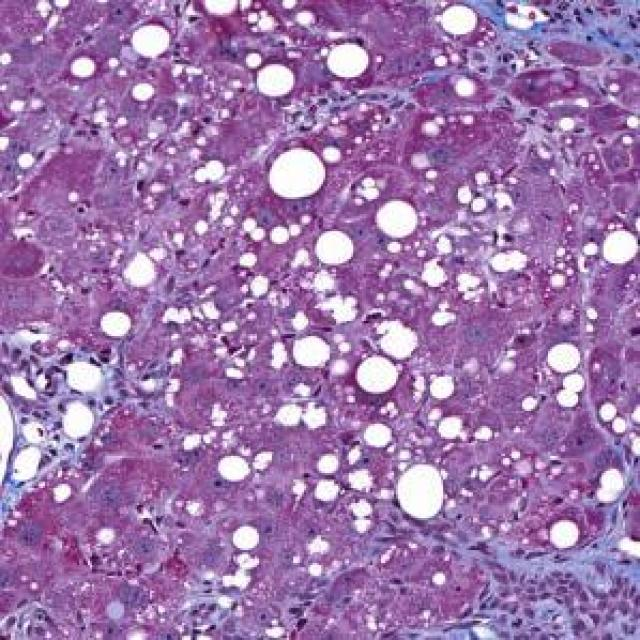fibrosis: (486, 541, 640, 640), (473, 0, 640, 75)
